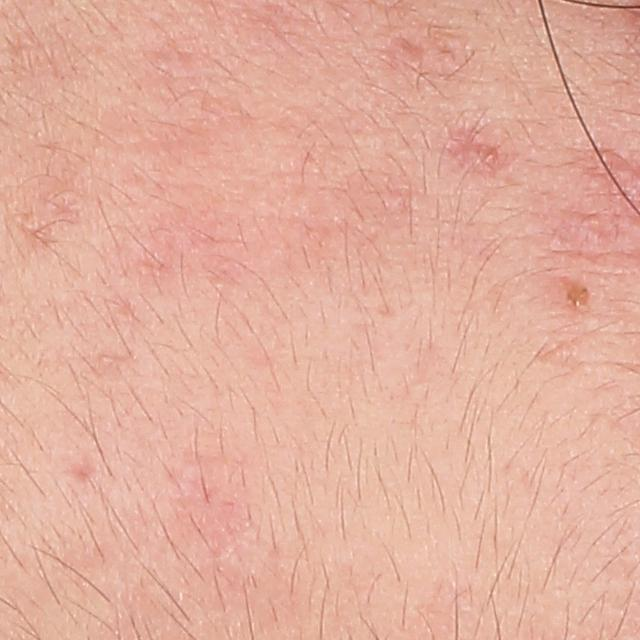atrophic_scar: (64, 457, 99, 482)
papule: (558, 282, 589, 311)
